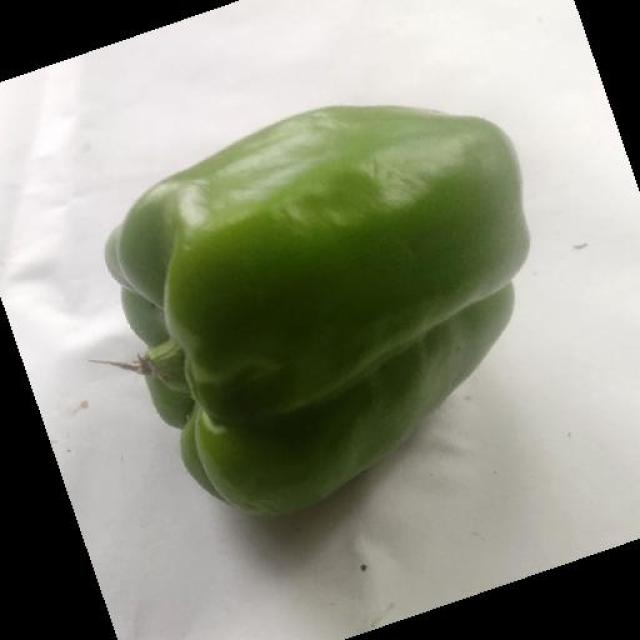Fresh_Capsicum: (104, 111, 525, 511)
